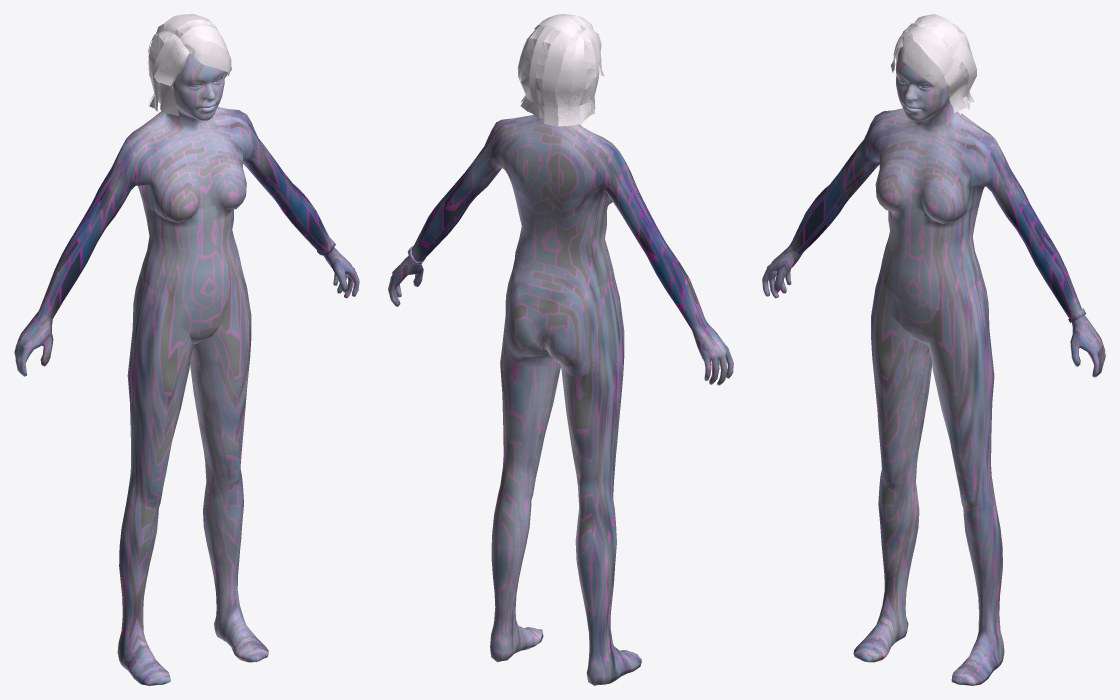
File: gtp_woman_base.gltf
3 views of the same model, side by side, from view 1: azimuth 30°, elevation 25°; view 2: azimuth 150°, elevation 25°; view 3: azimuth 330°, elevation 25° (orthographic).
Parts seen in each view (by area): view 1: head_004_r_high_1, hair_000_u_high_1; view 2: head_004_r_high_1, hair_000_u_high_1; view 3: head_004_r_high_1, hair_000_u_high_1.
Boxes of the visible parts, <box> form: head_004_r_high_1: <box>14,53,359,685</box>; hair_000_u_high_1: <box>148,14,231,115</box>; head_004_r_high_1: <box>388,114,733,685</box>; hair_000_u_high_1: <box>517,14,603,126</box>; head_004_r_high_1: <box>762,47,1105,685</box>; hair_000_u_high_1: <box>891,14,976,114</box>.
Size of the model in its own units: 0.9965 by 1.8 by 0.2378.
2 materials, 2 textured.
